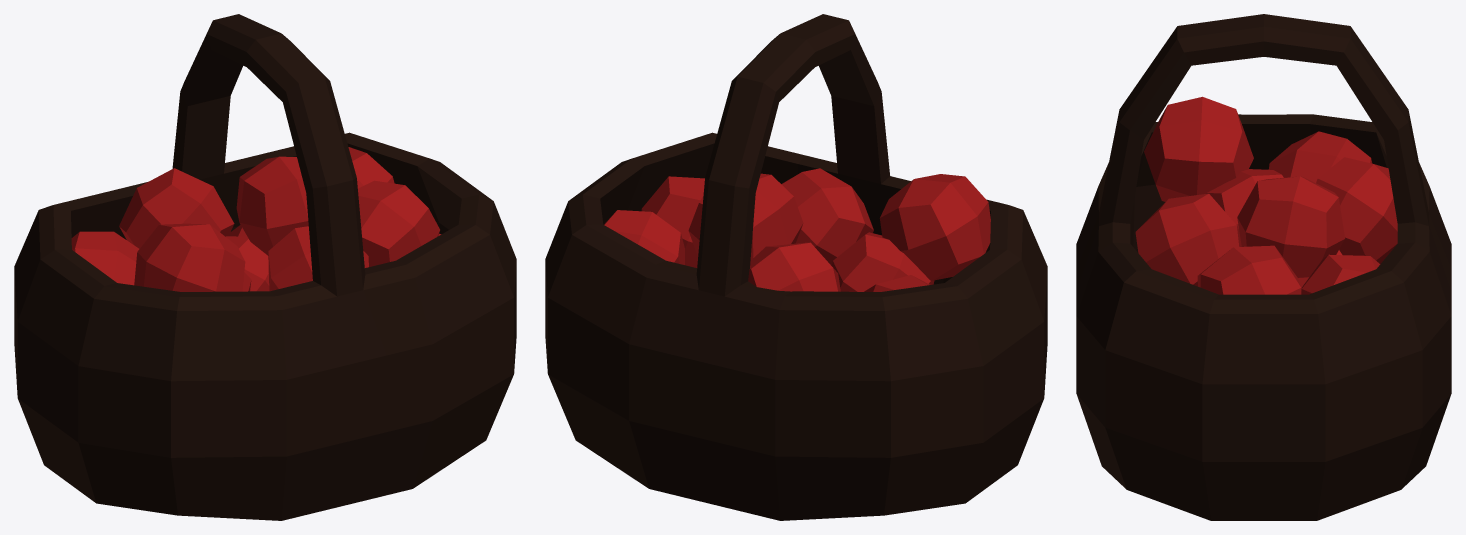
Rendered from AppleBasket_FBX.fbx.
The picture shows the model from 3 angles, left to right: view 1: azimuth 30°, elevation 25°; view 2: azimuth 150°, elevation 25°; view 3: azimuth 270°, elevation 25°; orthographic projection.
Visible parts, largest first — view 1: Basket, Apple_102, Apple_101, Apple_100, Apple_097, Apple_099, Apple_098, Apple_094, Apple_096; view 2: Basket, Apple_102, Apple_098, Apple_100, Apple_101, Apple_095, Apple_097, Apple_096, Apple_099; view 3: Basket, Apple_102, Apple_101, Apple_098, Apple_100, Apple_097, Apple_099, Apple_096, Apple_095.
Part boxes in pixels (bbox=[...]): Basket: bbox=[14, 14, 516, 520]; Apple_102: bbox=[134, 223, 245, 291]; Apple_101: bbox=[236, 156, 308, 255]; Apple_100: bbox=[119, 168, 234, 248]; Apple_097: bbox=[358, 180, 439, 266]; Apple_099: bbox=[71, 231, 139, 285]; Apple_098: bbox=[268, 226, 368, 291]; Apple_094: bbox=[226, 236, 269, 291]; Apple_096: bbox=[348, 147, 394, 188]; Basket: bbox=[545, 14, 1047, 520]; Apple_102: bbox=[879, 174, 990, 280]; Apple_098: bbox=[781, 168, 873, 265]; Apple_100: bbox=[748, 242, 840, 291]; Apple_101: bbox=[688, 173, 803, 260]; Apple_095: bbox=[831, 232, 934, 291]; Apple_097: bbox=[641, 176, 704, 267]; Apple_096: bbox=[604, 210, 684, 264]; Apple_099: bbox=[864, 275, 929, 291]; Basket: bbox=[1076, 14, 1451, 520]; Apple_102: bbox=[1144, 96, 1253, 201]; Apple_101: bbox=[1237, 176, 1345, 278]; Apple_098: bbox=[1135, 193, 1241, 286]; Apple_100: bbox=[1316, 157, 1397, 263]; Apple_097: bbox=[1197, 245, 1301, 294]; Apple_099: bbox=[1268, 131, 1372, 182]; Apple_096: bbox=[1301, 254, 1380, 294]; Apple_095: bbox=[1206, 169, 1283, 228].
Bounding box in the file's own units: 125 × 114 × 91.77.
